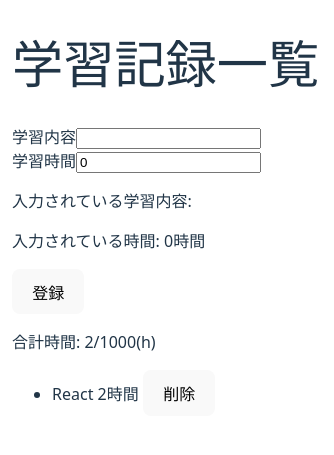
Record Add Test › 記録を追加すると一覧の件数が1増える
Expected: the number of list items is 1, left=52, top=370, right=215, bottom=416
//  学習内容を入力
Type "TypeScript" into the field labelled "学習内容". click: coordinates (168, 139)
box: left=76, top=128, right=261, bottom=149
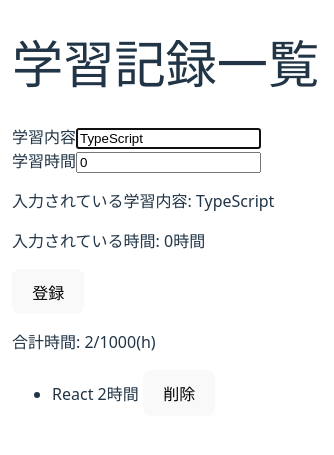
//  学習時間を入力
Type "3" into the number field labelled "学習時間". click: coordinates (168, 163)
box: left=76, top=152, right=261, bottom=173
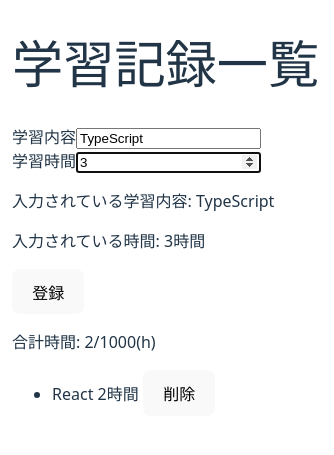
// 登録ボタンをクリック
Click the button "登録". click: coordinates (48, 292)
box: left=12, top=269, right=84, bottom=314
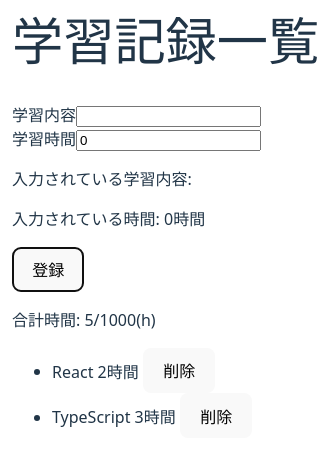
Expected: the number of list items is 2, left=52, top=348, right=215, bottom=393; left=52, top=393, right=252, bottom=438
